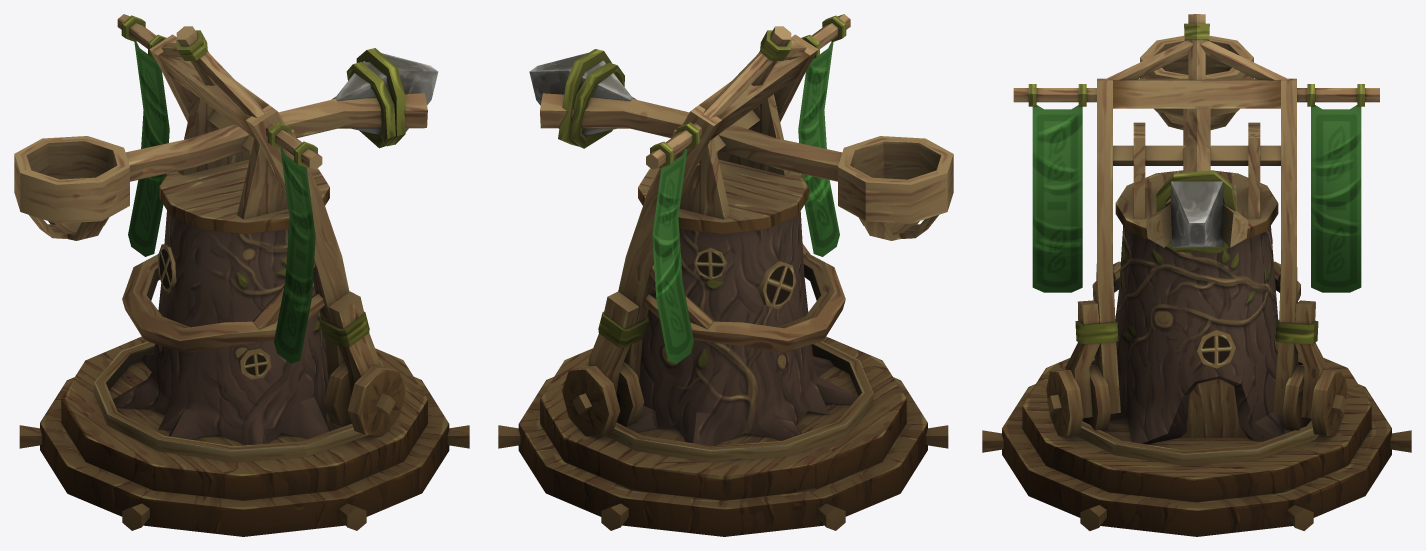
Rendered from woden_tower_top.FBX.
3 views of the same model, side by side, from view 1: azimuth 30°, elevation 25°; view 2: azimuth 150°, elevation 25°; view 3: azimuth 270°, elevation 25° (orthographic). The views are drawn at different scales.
Parts seen in each view (by area): view 1: stump, structure, arm, banners; view 2: stump, structure, arm, banners; view 3: stump, structure, banners, arm.
Boxes of the visible parts, x1,y1,x2,y2 form: stump: [19, 211, 469, 536]; structure: [117, 14, 405, 435]; arm: [14, 48, 438, 240]; banners: [128, 41, 315, 363]; stump: [498, 211, 948, 536]; structure: [562, 14, 850, 435]; arm: [529, 49, 953, 240]; banners: [652, 41, 839, 363]; stump: [982, 226, 1411, 536]; structure: [1013, 14, 1379, 435]; banners: [1032, 105, 1361, 292]; arm: [1140, 35, 1253, 252].
Size of the model in its own units: 573 by 577 by 539.
1 material, 1 textured.
